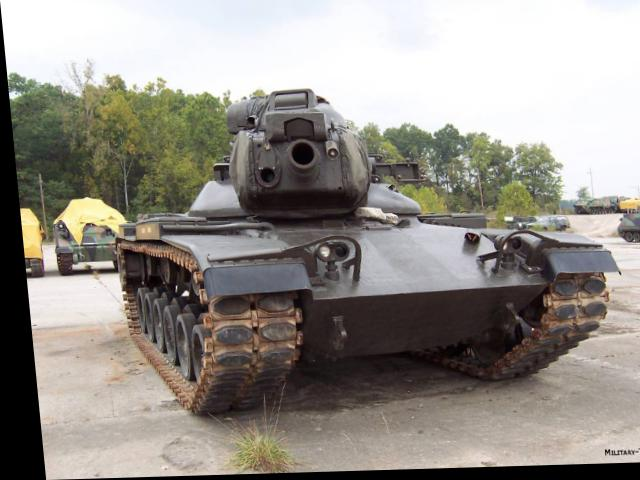tank: (90, 133, 604, 396), (50, 186, 121, 275), (617, 181, 640, 260), (568, 192, 620, 225)
